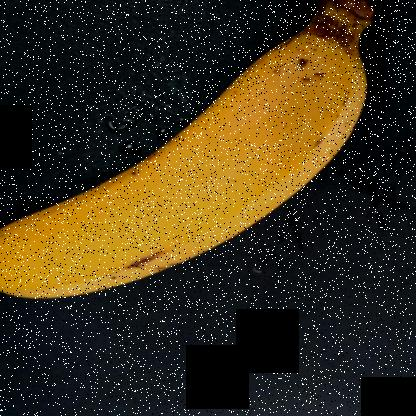freshripe: (1, 42, 378, 308)
